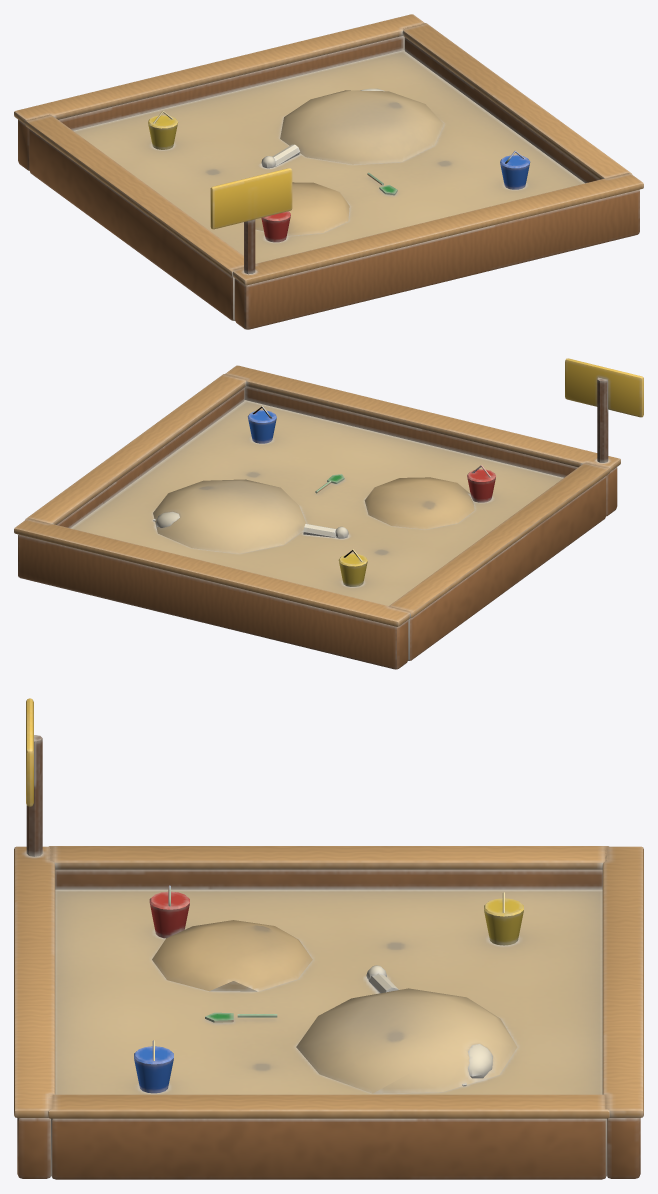
Rendered from dig_pit.glb.
The picture shows the model from 3 angles, top to bottom: view 1: azimuth 30°, elevation 25°; view 2: azimuth 150°, elevation 25°; view 3: azimuth 270°, elevation 25°; orthographic projection. The views are drawn at different scales.
Visible parts, largest first — view 1: SM_DigPit; view 2: SM_DigPit; view 3: SM_DigPit.
Boxes of the visible parts, x1=… form: SM_DigPit: x1=14, y1=14, x2=643, y2=329; SM_DigPit: x1=14, y1=358, x2=643, y2=669; SM_DigPit: x1=14, y1=698, x2=643, y2=1179.
Size of what is drawn, in the model's own units: 4.23 by 1.4 by 3.96.
Materials: 1 (1 with a texture image).
